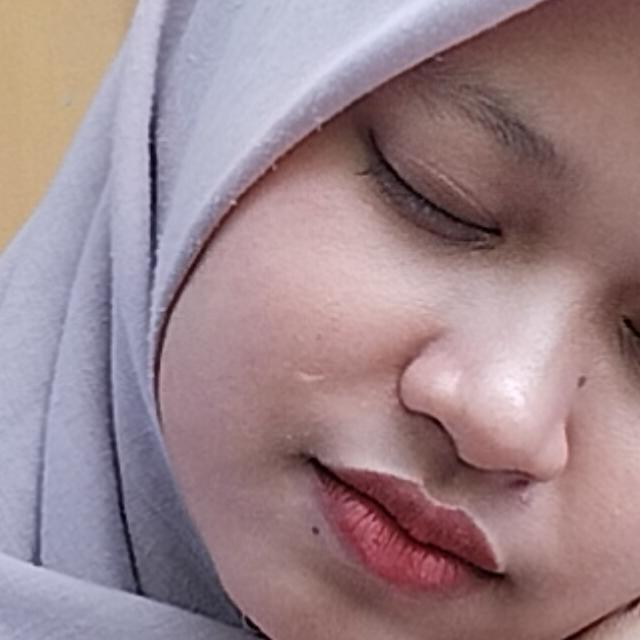tidur: (0, 268, 640, 640)
